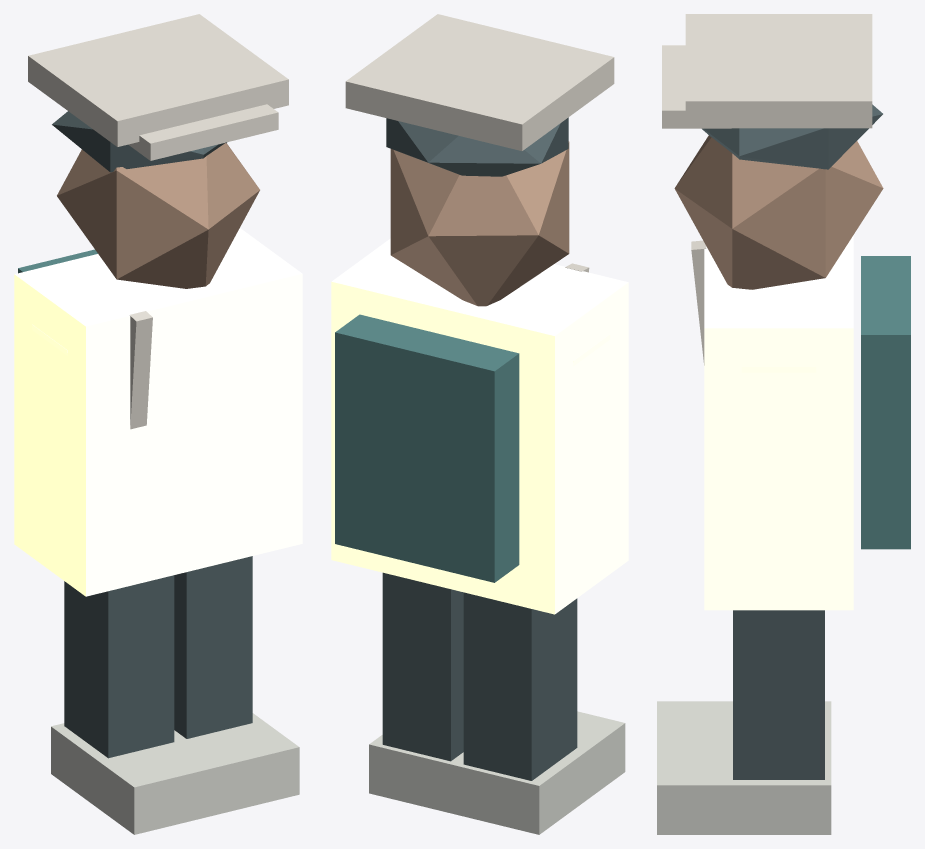
The model's file is builders_world_avatar_provisional.glb.
The picture shows the model from 3 angles, left to right: view 1: azimuth 30°, elevation 25°; view 2: azimuth 150°, elevation 25°; view 3: azimuth 270°, elevation 25°; orthographic projection. The views are drawn at different scales.
Visible parts, largest first — view 1: avatar_torso, avatar_cap, avatar_head, avatar_leg_-0.19, avatar_leg_0.19, avatar_shoe_-0.19, avatar_shoe_0.19, avatar_cap_brim, avatar_hair, avatar_backpack_strap; view 2: avatar_torso, avatar_backpack, avatar_cap, avatar_head, avatar_leg_-0.19, avatar_leg_0.19, avatar_shoe_-0.19, avatar_hair, avatar_shoe_0.19; view 3: avatar_torso, avatar_cap, avatar_head, avatar_leg_0.19, avatar_backpack, avatar_shoe_0.19, avatar_hair, avatar_shoe_-0.19, avatar_cap_brim, avatar_backpack_strap.
Part boxes in pixels (x1=…): avatar_torso: x1=14, y1=228, x2=302, y2=596; avatar_cap: x1=28, y1=14, x2=288, y2=146; avatar_head: x1=57, y1=143, x2=259, y2=288; avatar_leg_-0.19: x1=64, y1=575, x2=174, y2=758; avatar_leg_0.19: x1=174, y1=556, x2=252, y2=738; avatar_shoe_-0.19: x1=51, y1=723, x2=220, y2=834; avatar_shoe_0.19: x1=174, y1=713, x2=299, y2=815; avatar_cap_brim: x1=128, y1=104, x2=278, y2=160; avatar_hair: x1=52, y1=111, x2=226, y2=172; avatar_backpack_strap: x1=129, y1=311, x2=152, y2=429; avatar_torso: x1=331, y1=238, x2=628, y2=614; avatar_backpack: x1=335, y1=314, x2=519, y2=582; avatar_cap: x1=345, y1=14, x2=614, y2=150; avatar_head: x1=390, y1=141, x2=569, y2=306; avatar_leg_-0.19: x1=463, y1=592, x2=577, y2=780; avatar_leg_0.19: x1=382, y1=572, x2=463, y2=761; avatar_shoe_-0.19: x1=450, y1=711, x2=625, y2=834; avatar_hair: x1=386, y1=117, x2=568, y2=176; avatar_shoe_0.19: x1=369, y1=735, x2=463, y2=814; avatar_torso: x1=704, y1=235, x2=853, y2=610; avatar_cap: x1=685, y1=14, x2=872, y2=128; avatar_head: x1=674, y1=135, x2=883, y2=289; avatar_leg_0.19: x1=733, y1=610, x2=824, y2=779; avatar_backpack: x1=861, y1=256, x2=910, y2=549; avatar_shoe_0.19: x1=657, y1=741, x2=831, y2=834; avatar_hair: x1=702, y1=104, x2=882, y2=169; avatar_shoe_-0.19: x1=657, y1=701, x2=831, y2=745; avatar_cap_brim: x1=662, y1=45, x2=731, y2=128; avatar_backpack_strap: x1=691, y1=240, x2=706, y2=365.
Size of what is drawn, in the model's own units: 1.05 by 3.26 by 1.02.
